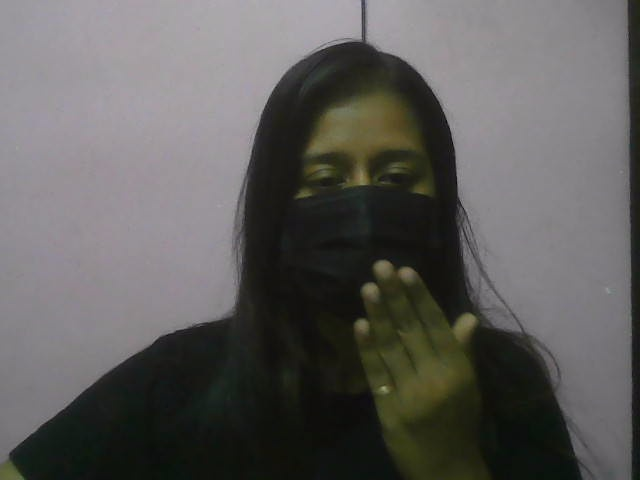Thank you: (310, 260, 525, 469)
